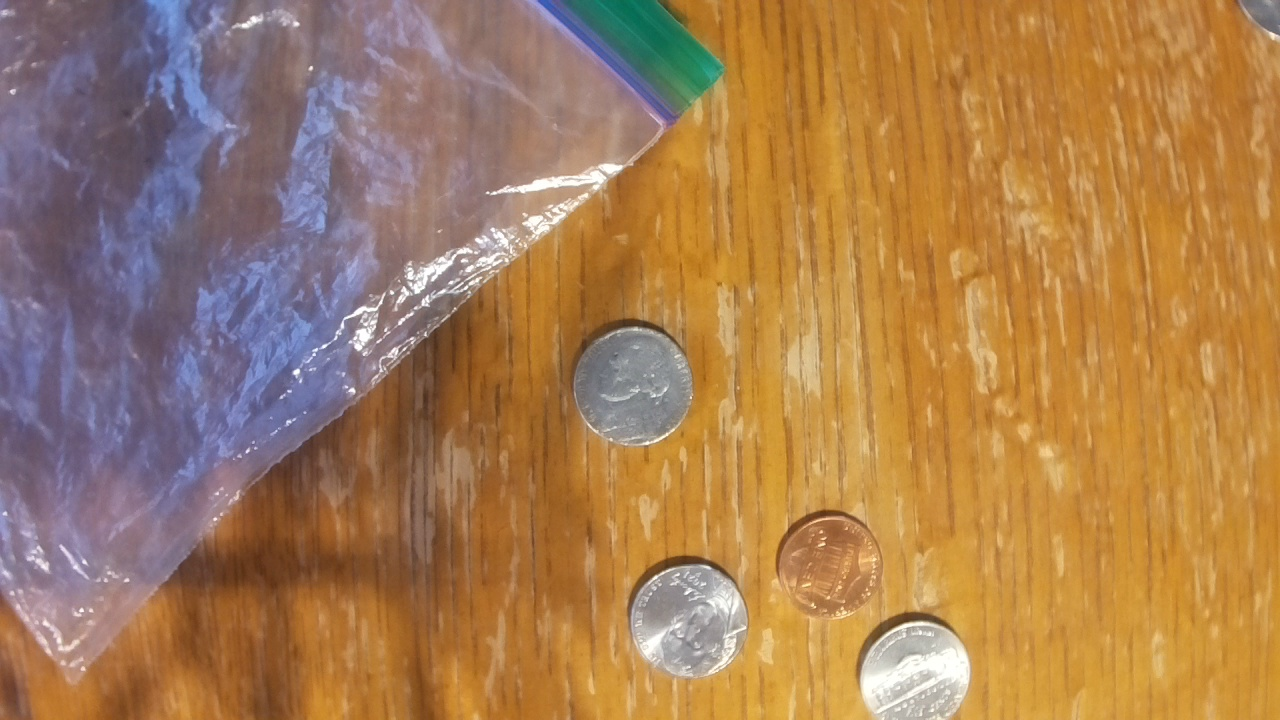nickel: (573, 325, 694, 448), (629, 561, 748, 678), (858, 620, 973, 720)
penny: (776, 513, 885, 621)
